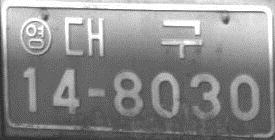-: (84, 82, 108, 105)
0: (228, 74, 259, 121), (150, 71, 180, 118)
1: (16, 66, 48, 113)
3: (189, 72, 221, 120)
4: (51, 66, 80, 113)
8: (112, 70, 143, 117)
대구_D: (63, 15, 204, 60)
영: (19, 17, 51, 56)
